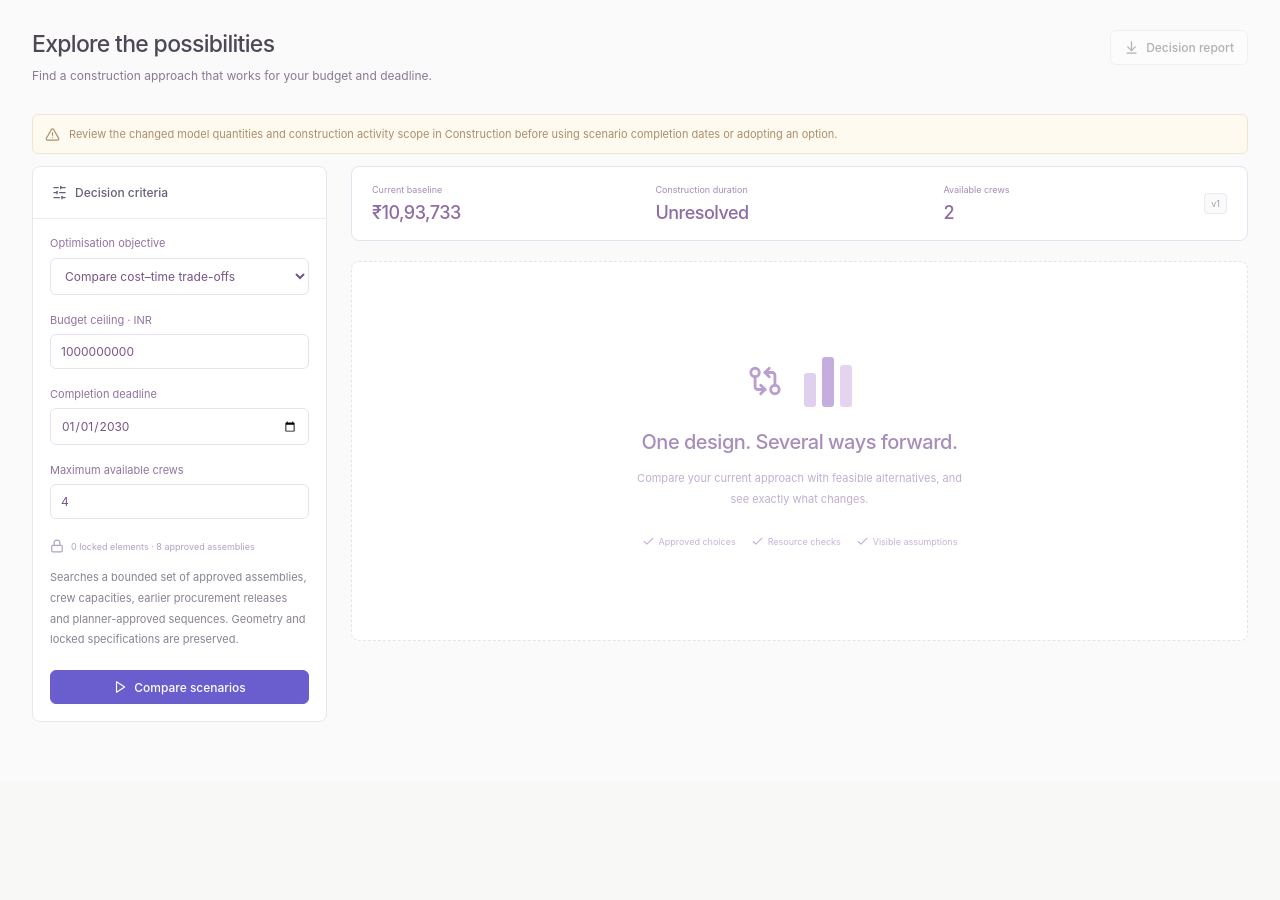
Test: reviewed scenario and sequence UI › shows unresolved stale dates and keeps infeasible zero-day results out of the chart and adoption
The width and height of the screenshot is (1280, 900).
Expected: the text "Unresolved" is shown, [655, 202, 749, 223]
What coordinates should you click on to do the following:
click the button "Compare scenarios"
I would click on:
 (180, 687)
Its box is [50, 670, 309, 704].
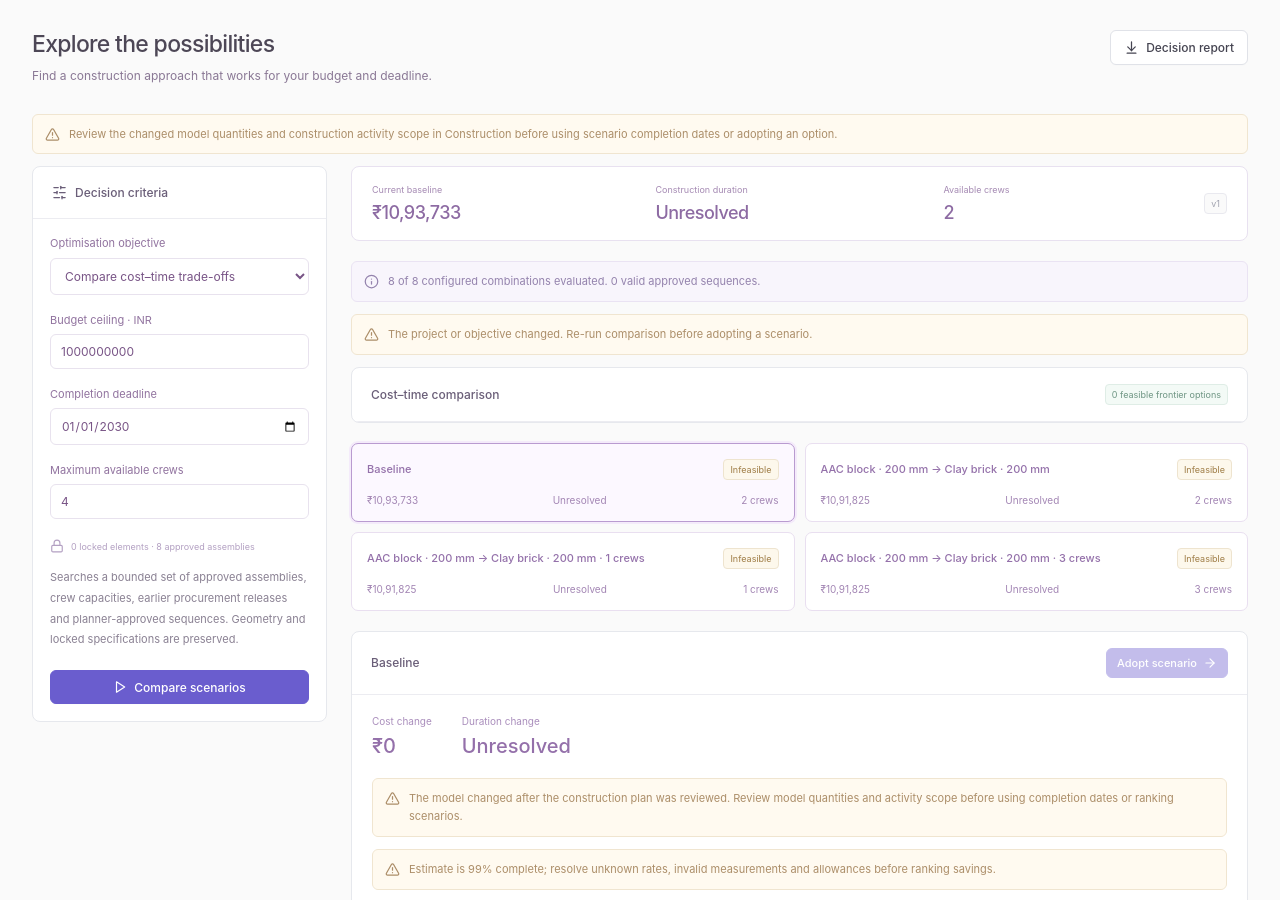
Now the button "Adopt scenario" is disabled, box [1106, 648, 1228, 678]
